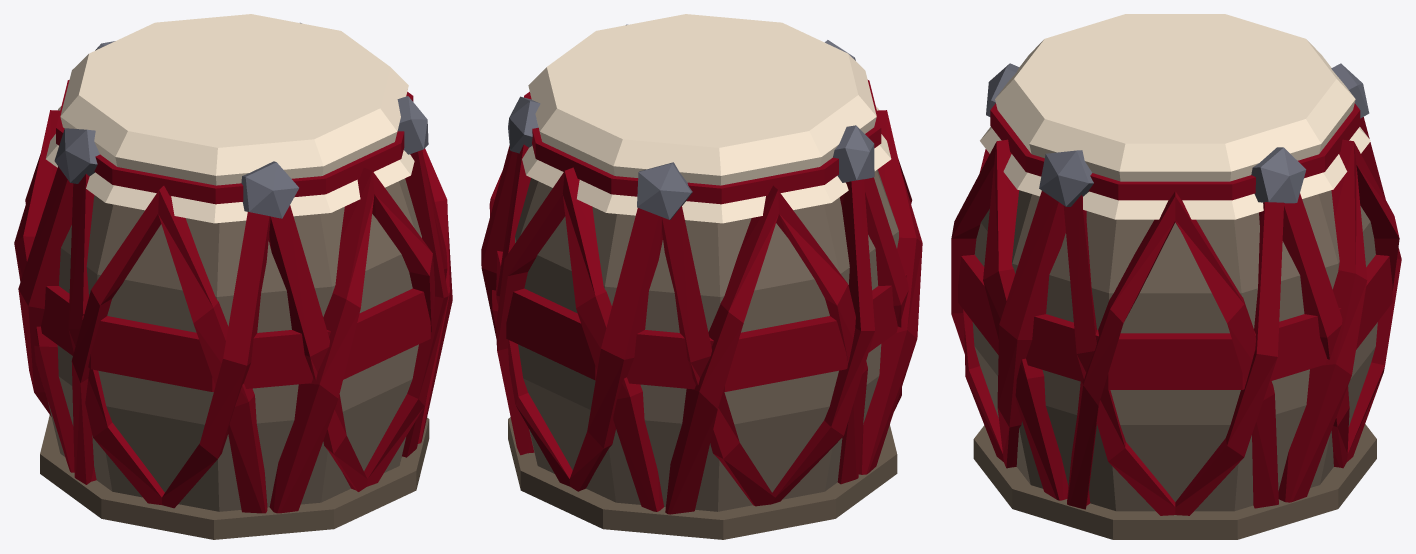
File: drum_2.glb
3 views of the same model, side by side, from view 1: azimuth 30°, elevation 25°; view 2: azimuth 150°, elevation 25°; view 3: azimuth 270°, elevation 25° (orthographic).
Visible parts, largest first — view 1: drum_2; view 2: drum_2; view 3: drum_2.
Part boxes in pixels (left/top/right/bottom): drum_2: left=14, top=14, right=452, bottom=539; drum_2: left=481, top=14, right=922, bottom=539; drum_2: left=951, top=14, right=1401, bottom=539.
Size of the model in its own units: 0.6843 by 0.6516 by 0.7.
Materials: 1 (1 with a texture image).
